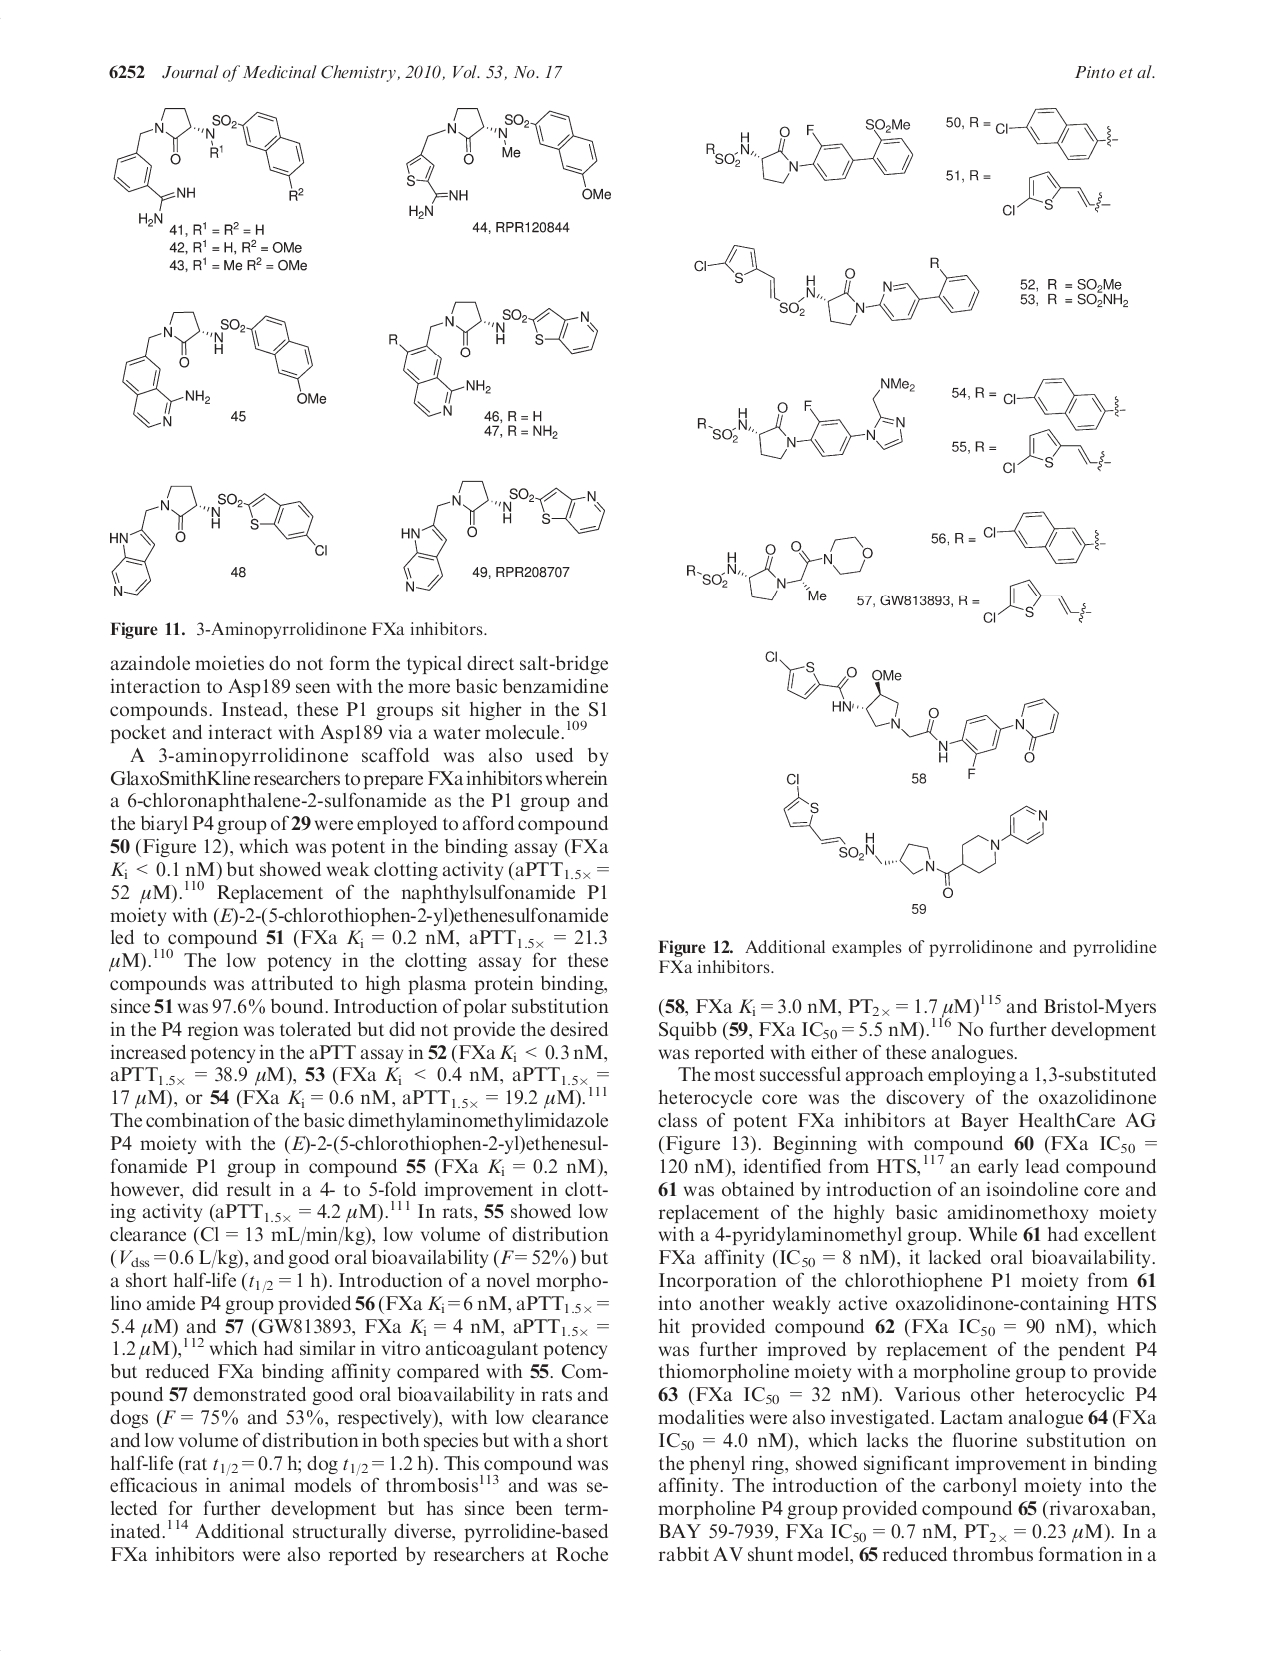exist_molecular: (751, 638, 1064, 786), (782, 770, 1055, 900), (688, 231, 983, 326), (102, 481, 330, 601), (120, 303, 328, 434), (114, 101, 313, 235), (382, 298, 602, 418), (402, 102, 621, 222), (398, 481, 608, 601), (696, 372, 922, 465), (701, 108, 920, 195), (684, 512, 878, 602), (953, 505, 1113, 581), (973, 364, 1128, 434), (965, 101, 1122, 164), (992, 164, 1121, 229), (980, 575, 1098, 644), (1001, 422, 1126, 484)
